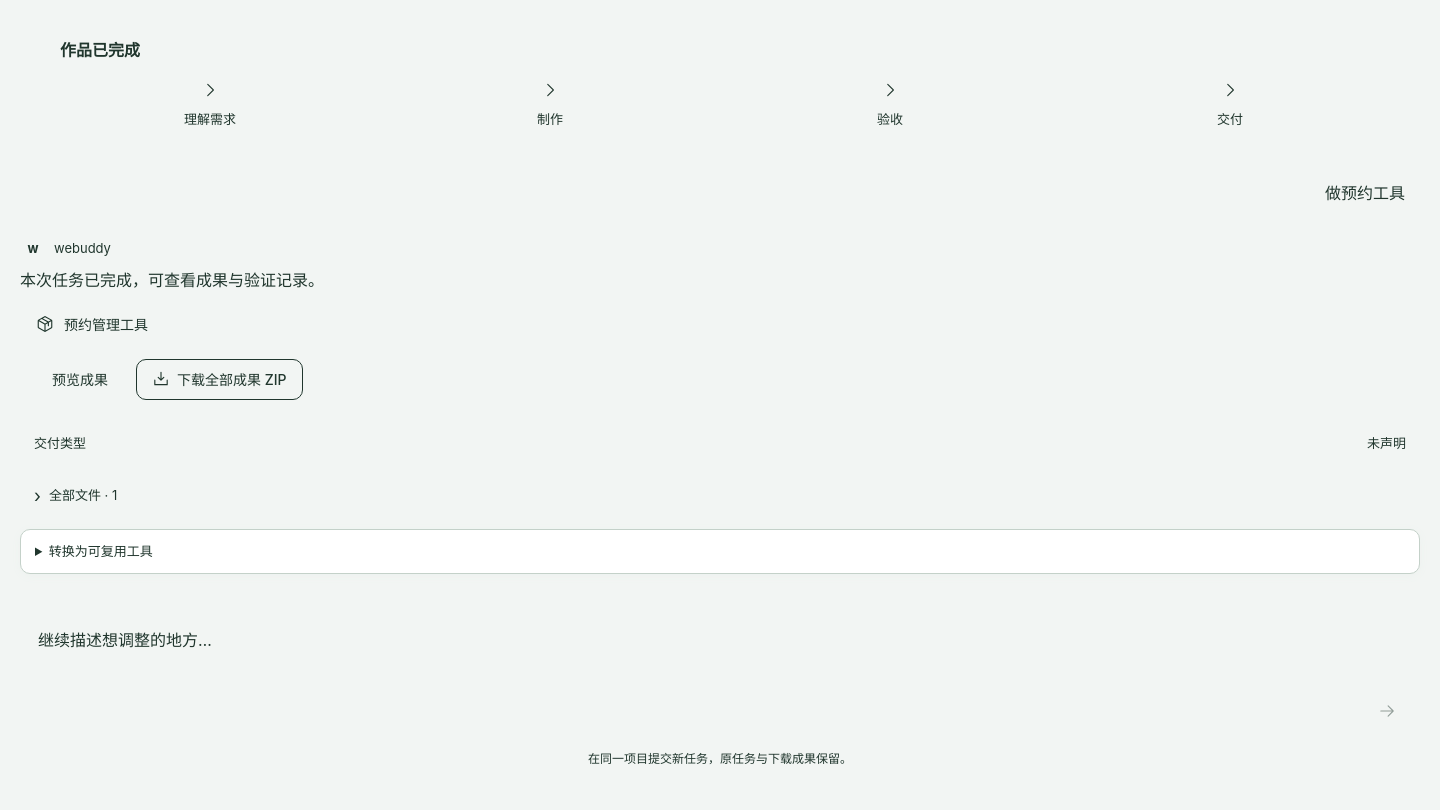
Test case: renders a real preview response including file id zero and downloads the full archive
What coordinates should you click on to do the following:
click the button "预览成果"
I would click on:
 (80, 379)
Its box is left=36, top=358, right=124, bottom=400.
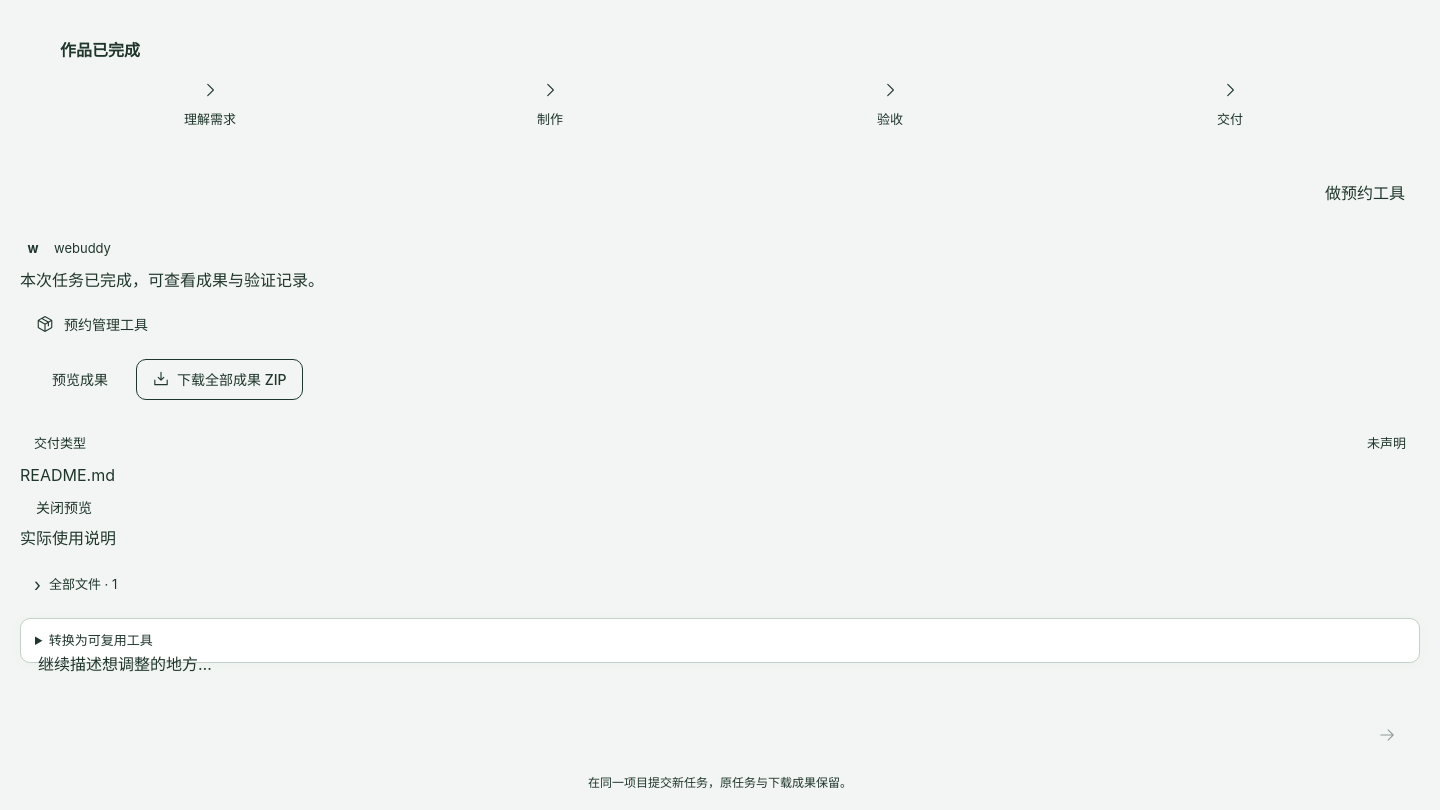
Expected: the text "实际使用说明" is shown, left=20, top=531, right=116, bottom=549
